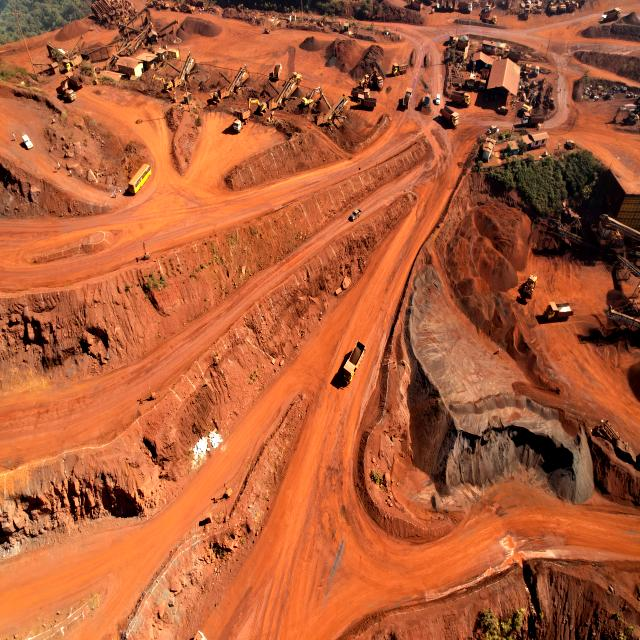Dumper truck: (340, 342, 364, 383), (547, 302, 572, 321), (440, 107, 460, 125), (356, 93, 374, 109), (601, 8, 621, 22), (391, 60, 408, 76), (233, 112, 246, 132), (64, 56, 80, 72), (452, 91, 469, 106), (480, 9, 495, 23), (401, 89, 412, 108), (66, 72, 82, 84), (59, 89, 76, 100), (458, 0, 474, 11), (479, 69, 487, 89), (457, 34, 470, 46), (233, 118, 244, 132), (273, 61, 281, 80), (408, 0, 423, 10), (352, 88, 370, 96), (452, 35, 463, 48), (434, 92, 442, 104), (469, 72, 475, 88), (423, 93, 430, 106), (524, 5, 530, 19), (377, 77, 383, 89)
Excavator: (612, 107, 638, 126), (150, 73, 174, 91), (522, 91, 540, 114), (247, 97, 265, 114), (302, 92, 320, 107), (208, 90, 221, 106), (549, 0, 556, 14)
car: (21, 134, 34, 149), (351, 210, 362, 221)
person: (57, 162, 61, 170), (12, 134, 16, 141), (54, 165, 58, 171), (70, 170, 72, 176)
